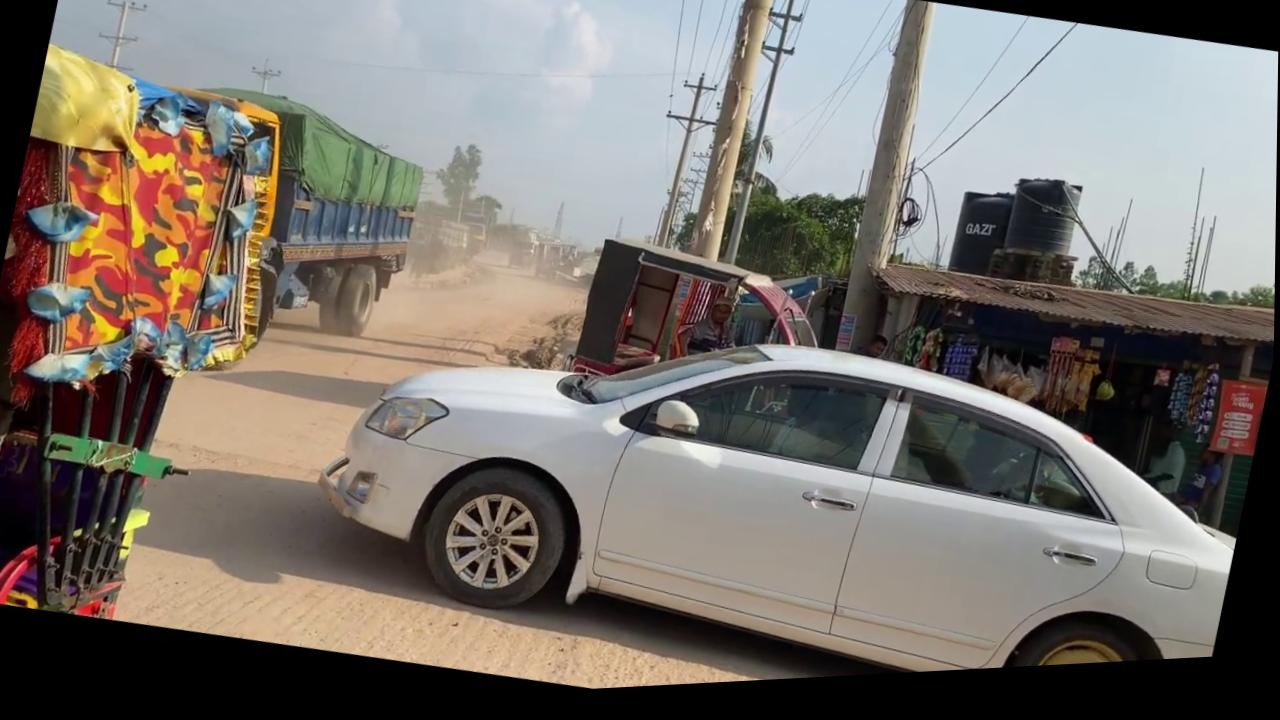Car: (285, 245, 1266, 708)
Pole: (831, 5, 945, 366), (717, 0, 808, 276), (686, 0, 777, 269)
Railroad-crossing: (0, 33, 268, 634)
Traffic-sign: (426, 140, 486, 231)
Tree: (122, 67, 438, 371), (565, 230, 837, 429), (505, 228, 583, 291)
